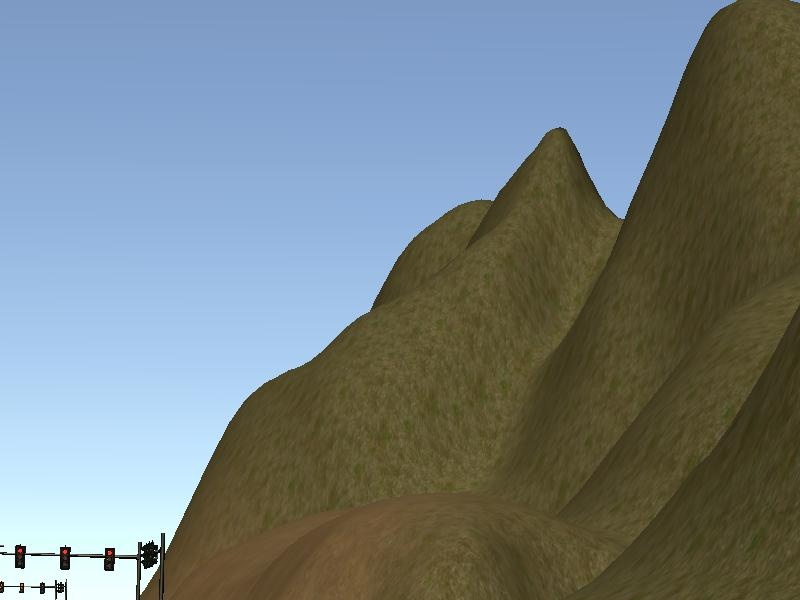red: (60, 547, 71, 571), (104, 548, 115, 571), (16, 544, 27, 567)
